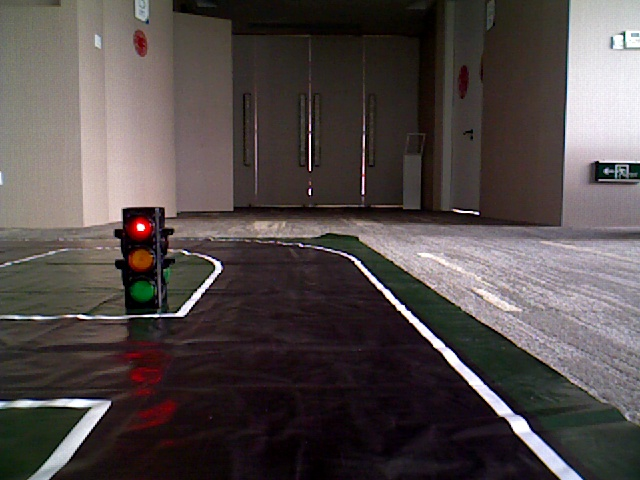red: (122, 208, 158, 308)
